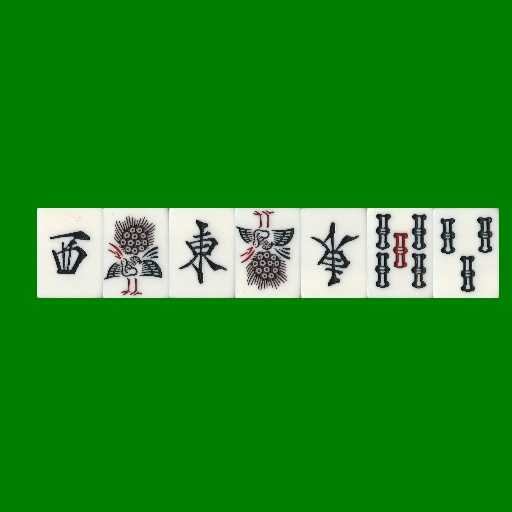1s: (103, 208, 169, 298), (235, 208, 301, 298)
3s: (433, 208, 499, 298)
5s: (367, 208, 433, 298)
east: (169, 208, 235, 298), (301, 208, 367, 298)
west: (37, 208, 103, 298)
